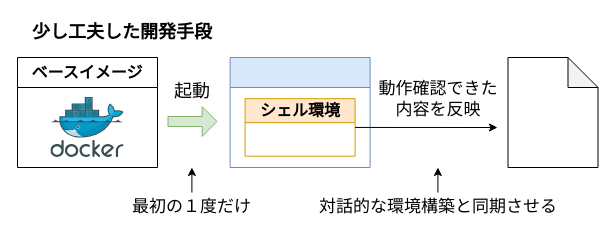
Some shapes in this 616 by 234 pixel diagram are drawn without their labels. The box of each missing label's shape, as (x1, y1, x2, y2) in pixels:
コンテナ: (229, 56, 370, 168)
開発中の Dockerfile: (507, 56, 598, 168)
